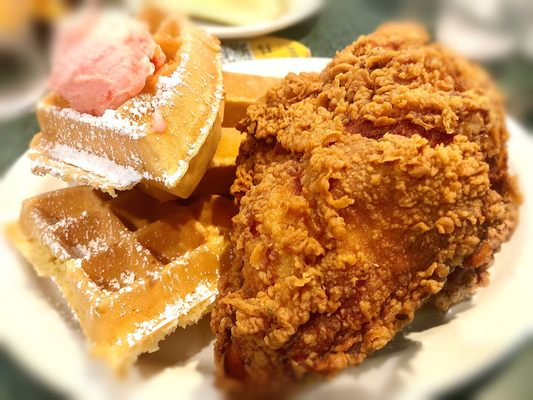soup: (27, 0, 226, 201)
